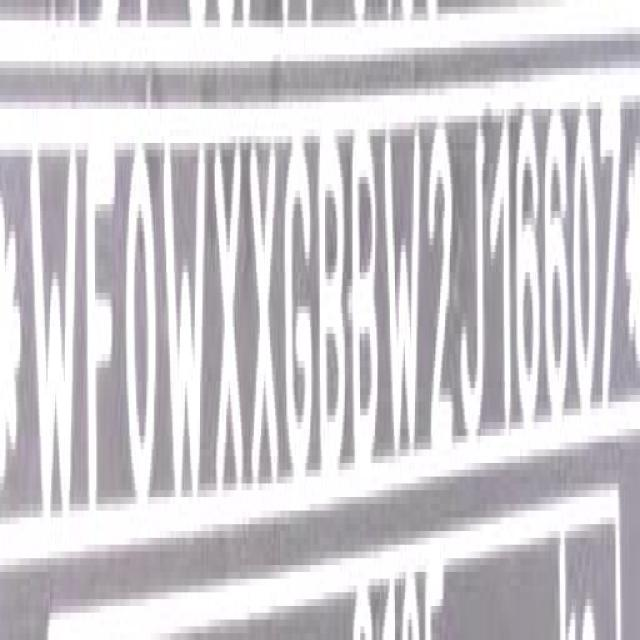0: (124, 152, 162, 507), (574, 108, 600, 420)
1: (490, 124, 514, 431)
2: (428, 118, 457, 456)
6: (350, 135, 383, 470), (544, 106, 574, 426), (515, 112, 544, 432)
7: (603, 102, 625, 414)
B: (316, 133, 348, 475)
F: (85, 153, 121, 513)
G: (282, 141, 314, 469)
J: (460, 120, 489, 449)
W: (30, 144, 79, 520), (161, 146, 210, 509), (385, 128, 426, 465)
X: (209, 142, 246, 498), (247, 135, 282, 493)
